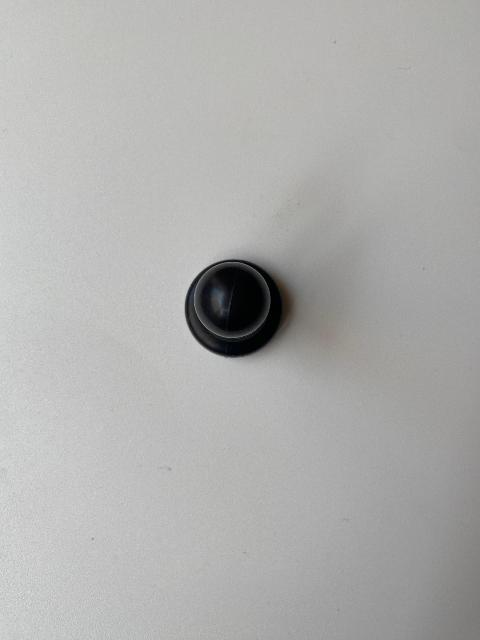black-pawn: (184, 258, 284, 358)
